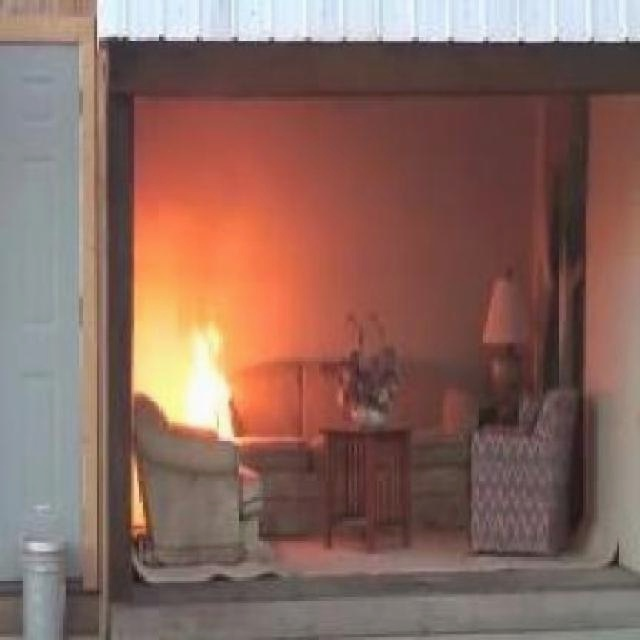fire: (159, 281, 247, 425)
